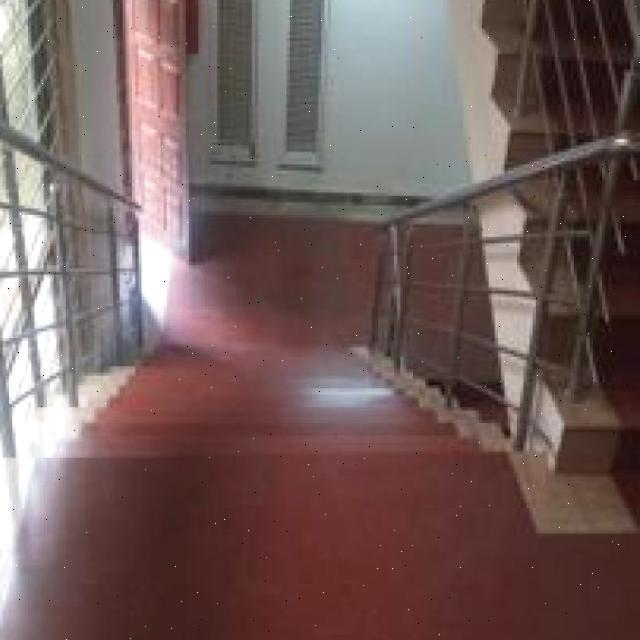stair: (7, 331, 496, 515)
